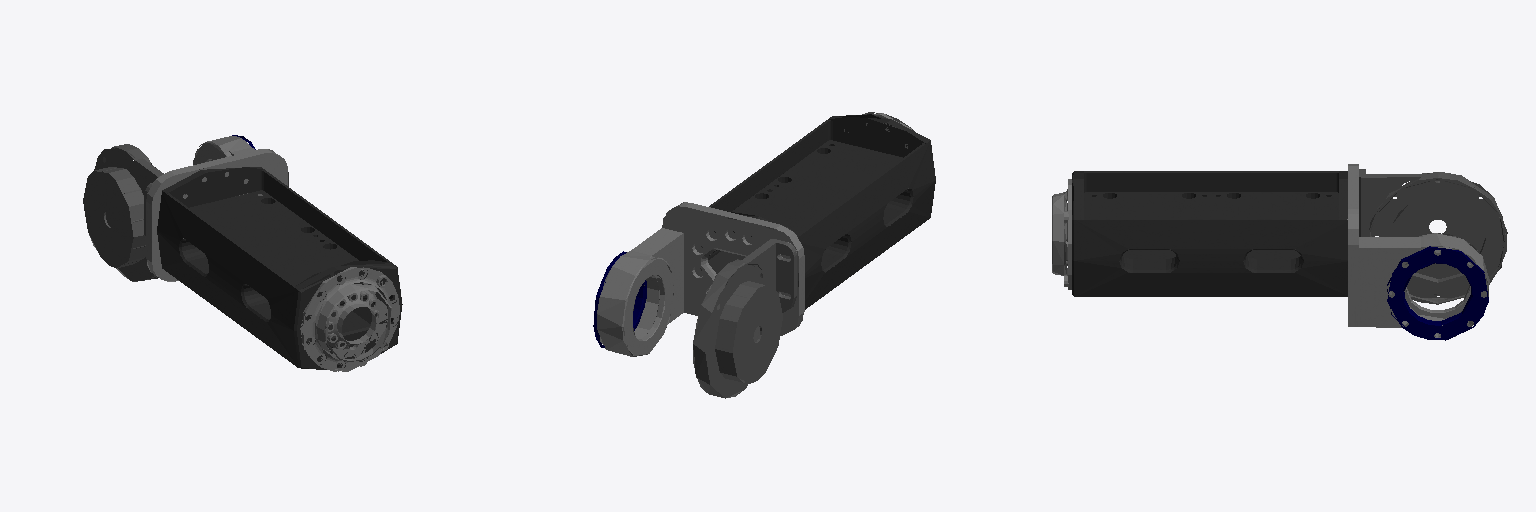
3 renders of one model, left to right at view 1: azimuth 30°, elevation 25°; view 2: azimuth 150°, elevation 25°; view 3: azimuth 270°, elevation 25°, orthographic.
Bounding box in the file's own units: 0.072 × 0.066 × 0.2019.
1 materials, 1 textured.